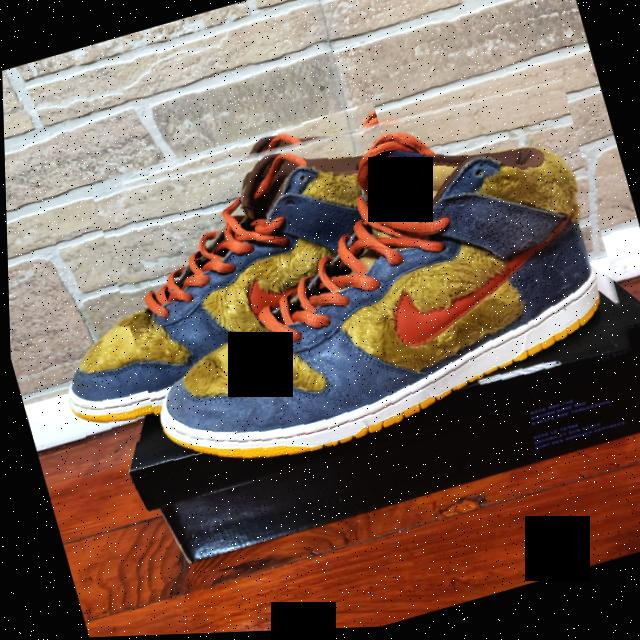shoe: (88, 60, 640, 503), (3, 102, 444, 464)
